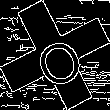O_NW: (25, 23, 85, 87)
